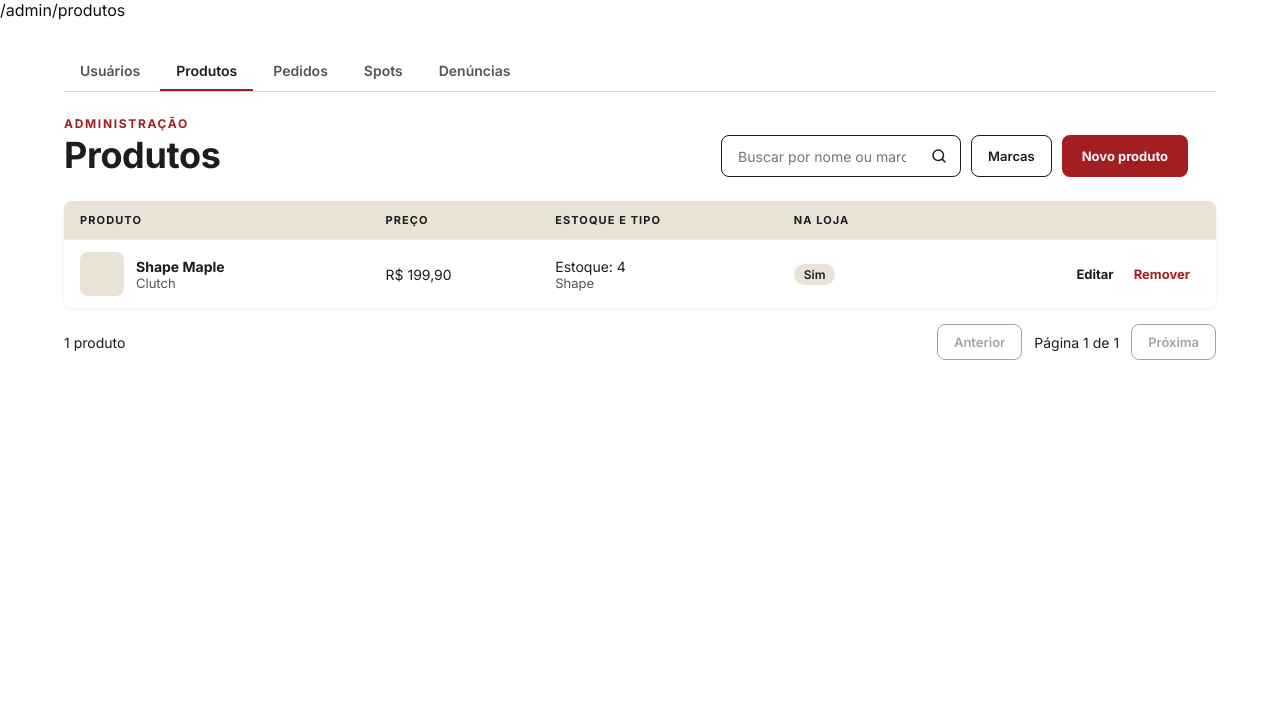
Painel: remover produto › cancelar não remove
Click the button "Remover": (1162, 274) [1124,260,1200,288]
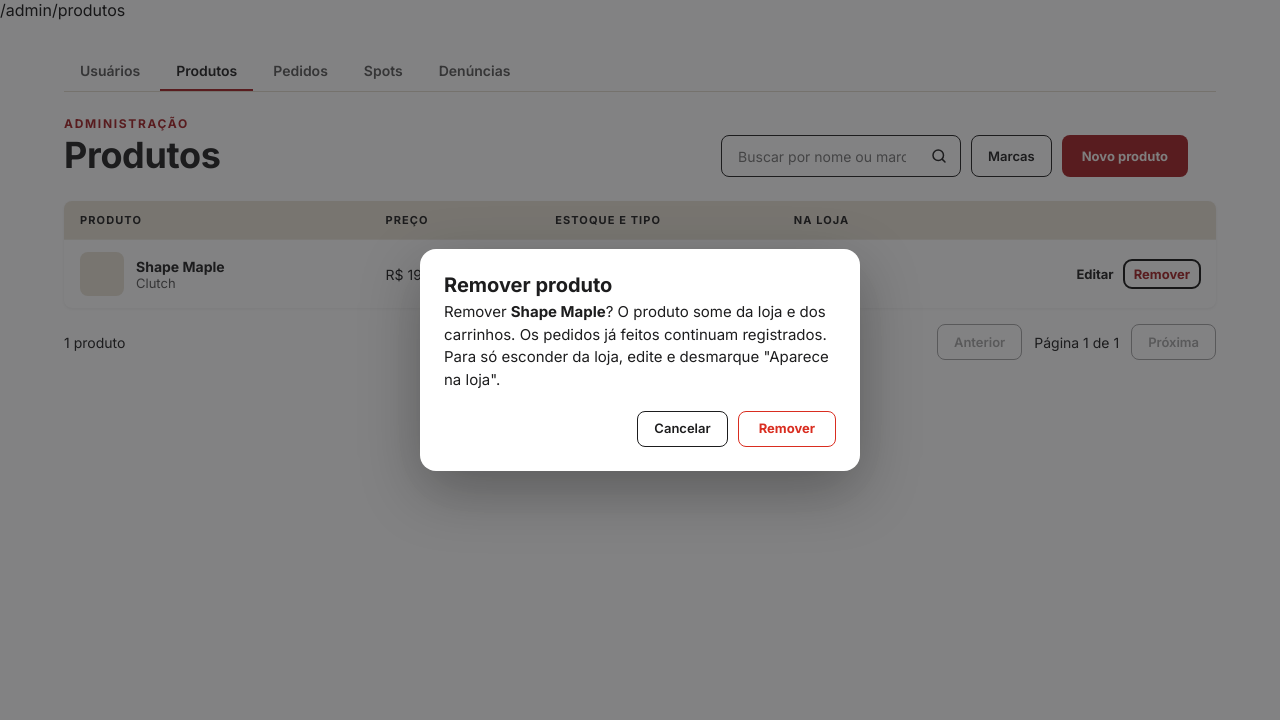
Click the button "Cancelar": (683, 429) [637,411,728,447]
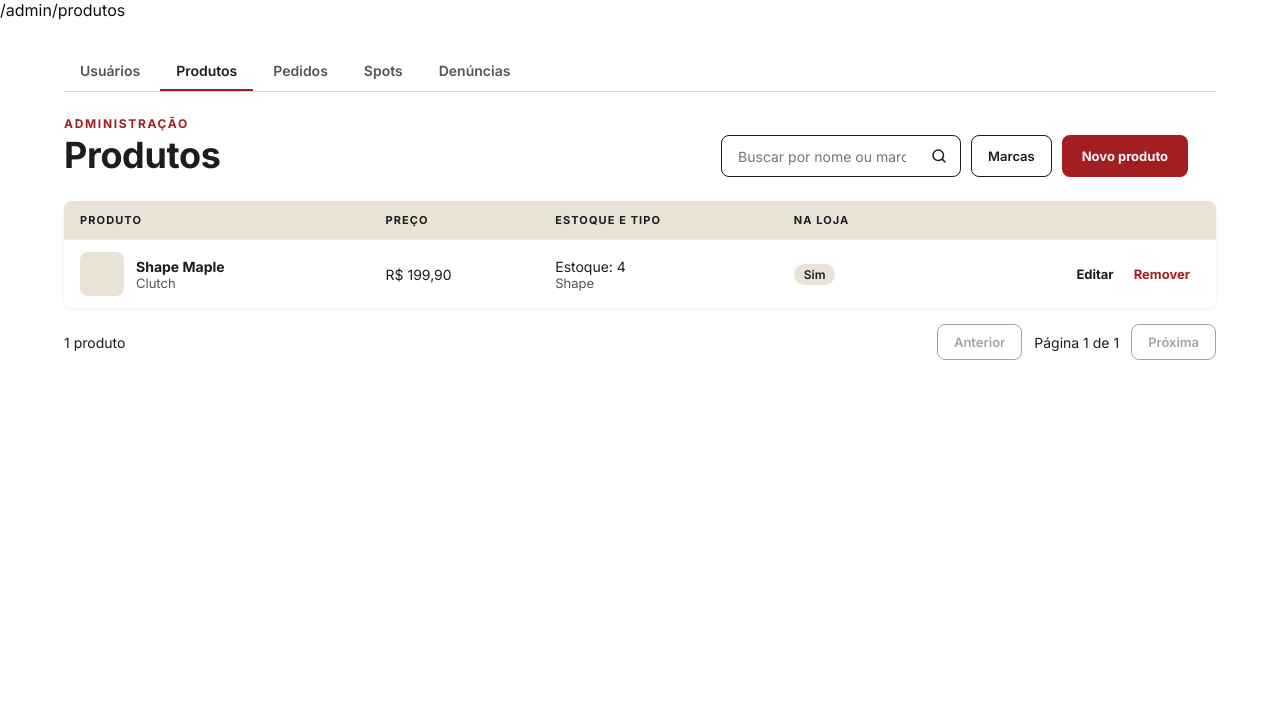
expect the dialog is gone: met
